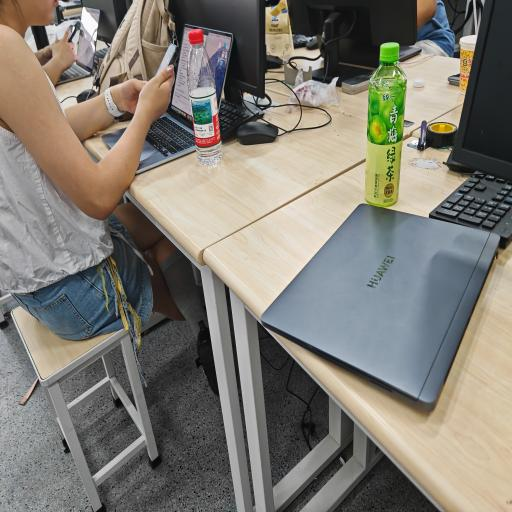laptop: (261, 204, 499, 409), (136, 25, 197, 173), (57, 7, 100, 85), (202, 28, 233, 105), (102, 129, 125, 148)
mouse: (236, 121, 278, 145), (76, 89, 96, 103), (266, 54, 284, 68), (306, 36, 318, 50)
